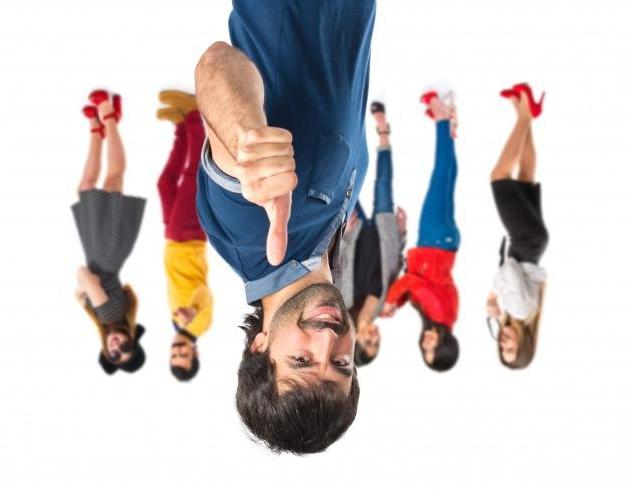thumbsdown: (235, 128, 299, 266)
